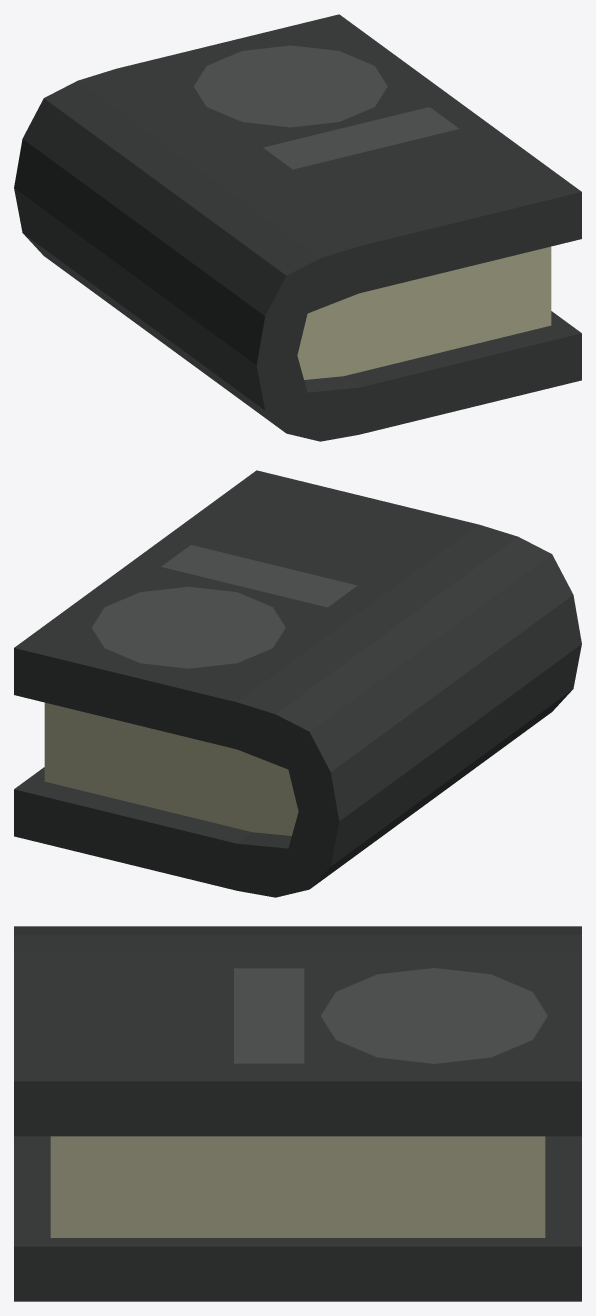
File: Book_4_Black.fbx
The picture shows the model from 3 angles, top to bottom: view 1: azimuth 30°, elevation 25°; view 2: azimuth 150°, elevation 25°; view 3: azimuth 270°, elevation 25°; orthographic projection. The views are drawn at different scales.
Visible parts, largest first — view 1: Book_4_Black_Part_1, Book_4_Black_Part_2, Book_4_Black_Part_3; view 2: Book_4_Black_Part_1, Book_4_Black_Part_2, Book_4_Black_Part_3; view 3: Book_4_Black_Part_1, Book_4_Black_Part_2, Book_4_Black_Part_3.
Part boxes in pixels (x1,y1,x2,y2): Book_4_Black_Part_1: (14,14,581,441); Book_4_Black_Part_2: (297,246,551,379); Book_4_Black_Part_3: (194,45,459,169); Book_4_Black_Part_1: (14,470,581,897); Book_4_Black_Part_2: (44,702,298,835); Book_4_Black_Part_3: (92,545,357,668); Book_4_Black_Part_1: (14,926,581,1301); Book_4_Black_Part_2: (50,1136,545,1237); Book_4_Black_Part_3: (234,968,547,1063).
Bounding box in the file's own units: 27.09 × 15.1 × 35.
